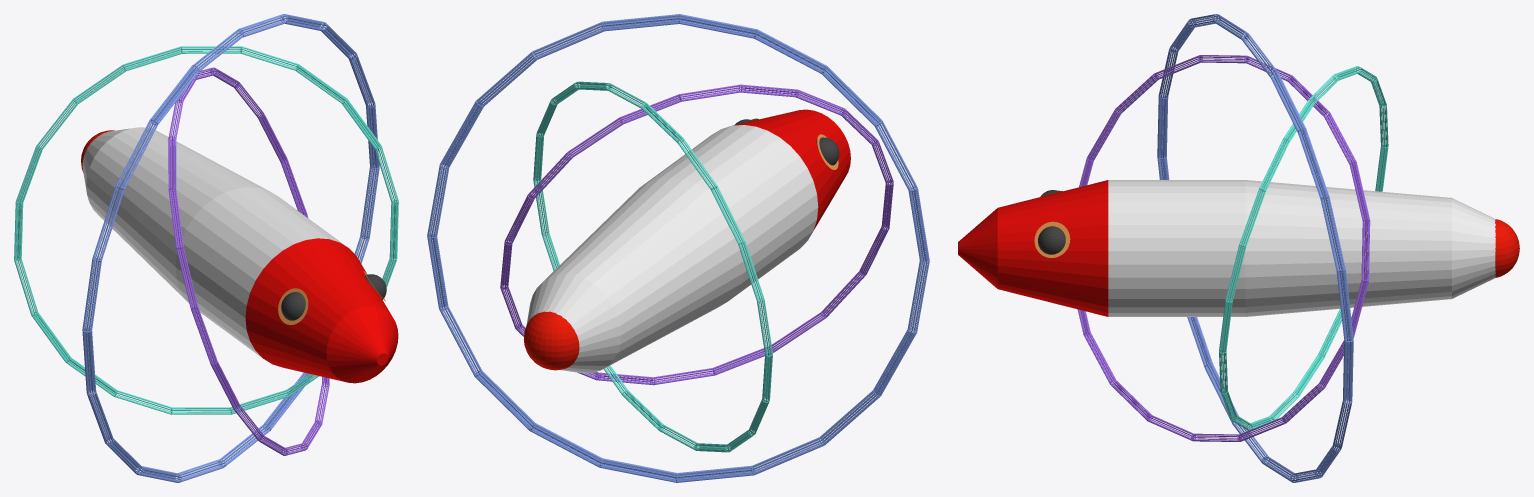
File: gravitationalLureTrap.fbx
3 renders of one model, left to right at view 1: azimuth 30°, elevation 25°; view 2: azimuth 150°, elevation 25°; view 3: azimuth 270°, elevation 25°, orthographic. The views are drawn at different scales.
Parts seen in each view (by area): view 1: Cylinder, Torus, Torus.001, Torus.002, Sphere.002; view 2: Cylinder, Torus, Torus.002, Torus.001, Sphere; view 3: Cylinder, Torus, Torus.002, Torus.001, Sphere, Sphere.001.
Part boxes in pixels (bbox=[...]): Cylinder: bbox=[82, 127, 398, 383]; Torus: bbox=[82, 14, 379, 482]; Torus.001: bbox=[14, 46, 398, 414]; Torus.002: bbox=[168, 67, 329, 455]; Sphere.002: bbox=[281, 292, 305, 320]; Cylinder: bbox=[526, 109, 850, 373]; Torus: bbox=[427, 14, 929, 482]; Torus.002: bbox=[500, 84, 893, 385]; Torus.001: bbox=[533, 81, 772, 452]; Sphere: bbox=[524, 311, 579, 370]; Cylinder: bbox=[958, 180, 1495, 316]; Torus: bbox=[1157, 14, 1353, 482]; Torus.002: bbox=[1077, 55, 1370, 441]; Torus.001: bbox=[1219, 66, 1388, 430]; Sphere: bbox=[1495, 219, 1519, 277]; Sphere.001: bbox=[1038, 226, 1065, 254].
Size of the model in its own units: 646 by 701 by 818.
